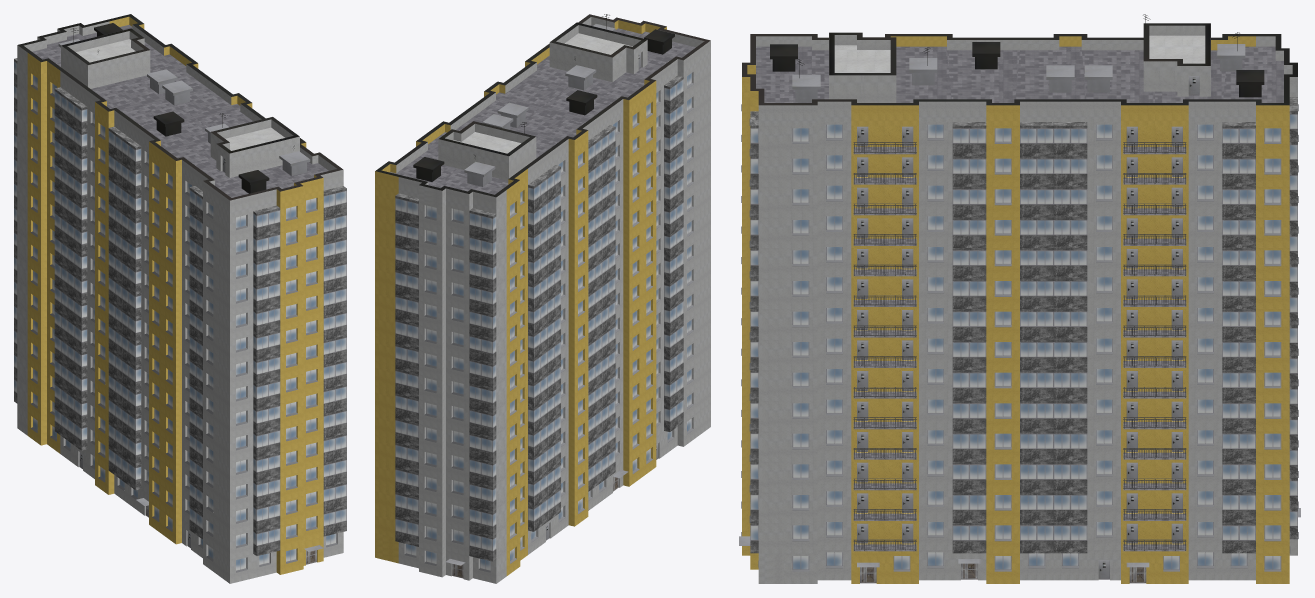
File: bld_a16.glb
The picture shows the model from 3 angles, left to right: view 1: azimuth 30°, elevation 25°; view 2: azimuth 150°, elevation 25°; view 3: azimuth 270°, elevation 25°; orthographic projection. The views are drawn at different scales.
Parts seen in each view (by area): view 1: body|TextureForCheloveynik; view 2: body|TextureForCheloveynik; view 3: body|TextureForCheloveynik.
Boxes of the visible parts, x1,y1,x2,y2 form: body|TextureForCheloveynik: [14, 14, 346, 583]; body|TextureForCheloveynik: [375, 14, 710, 583]; body|TextureForCheloveynik: [739, 14, 1300, 583].
Size of the model in its own units: 16.25 by 50.5 by 50.
Materials: 1 (1 with a texture image).
